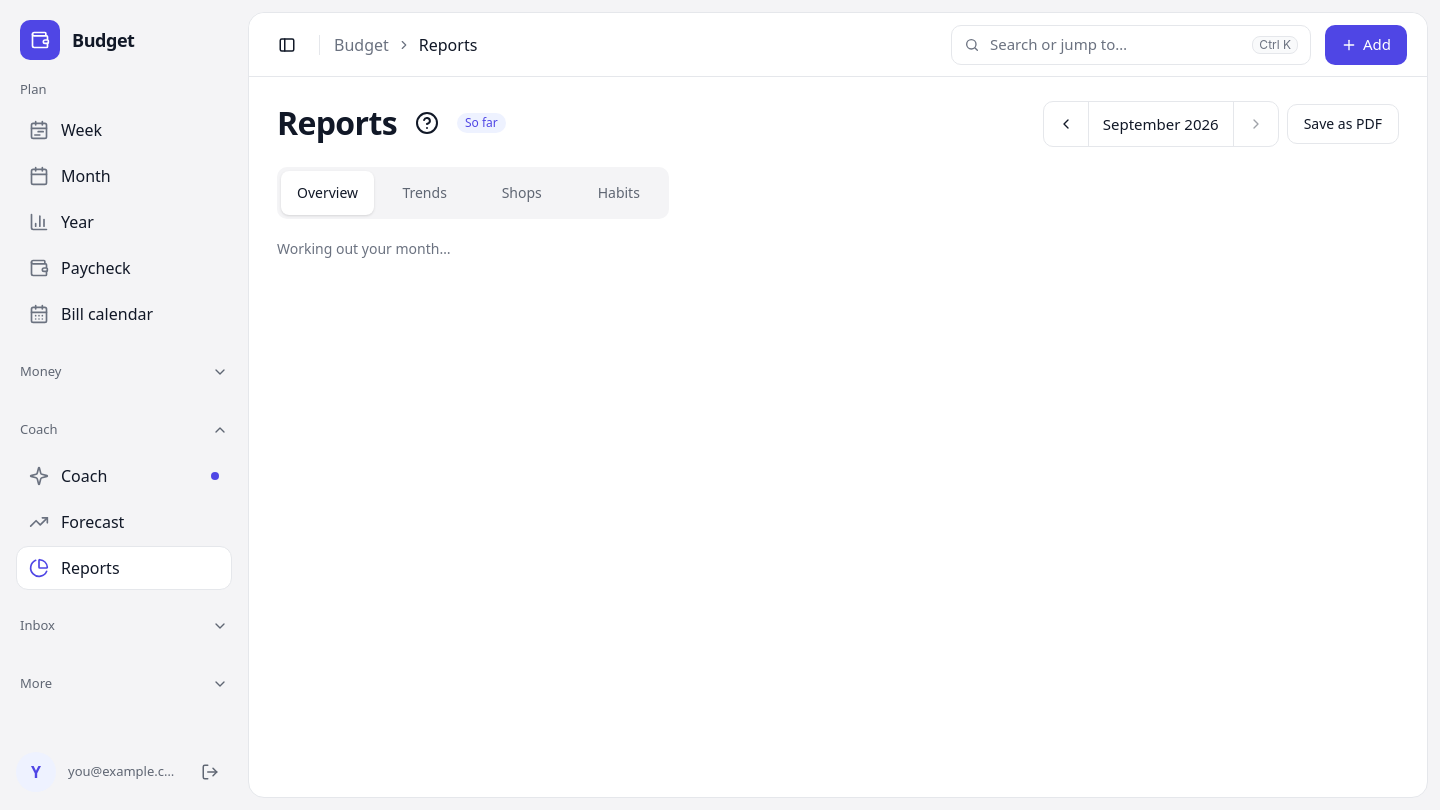
Test: Reports, Habits: streaks, weekdays and personal bests (plan §2.6, A18) › keeps no week and names no best past the latest statement: not in yet, as the check-in says it
Click the tab "Habits" at (619, 193), box left=572, top=171, right=665, bottom=215
(page scrolled)
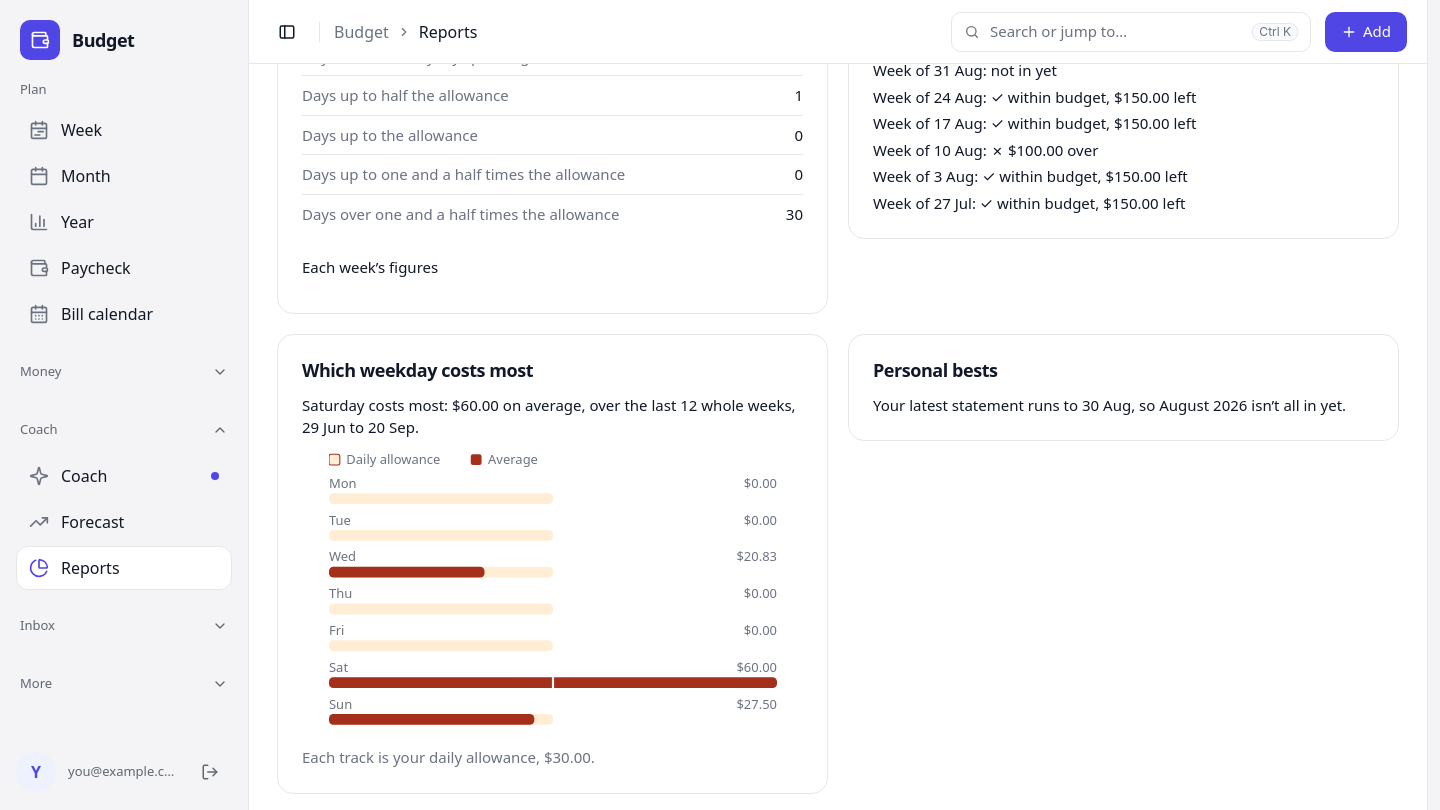
Check: the text "Your latest statement runs to 30 Aug, so August 2026 isn’t all in yet." is shown, box left=873, top=394, right=1374, bottom=416
